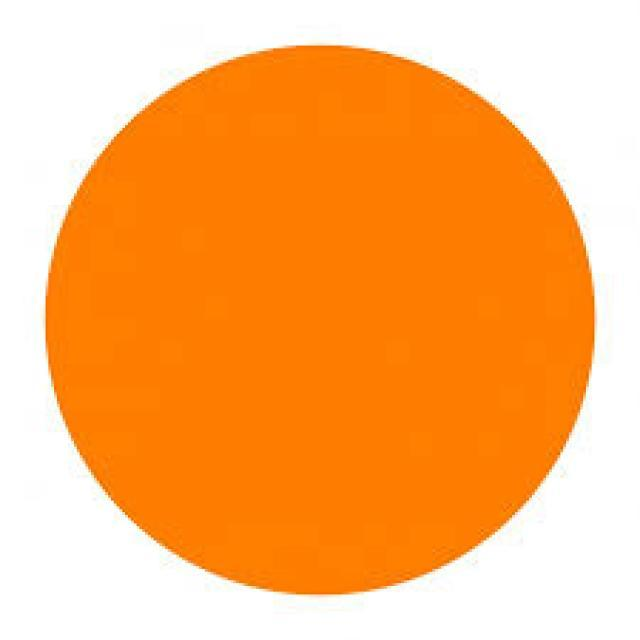Circle: (46, 46, 594, 594)
